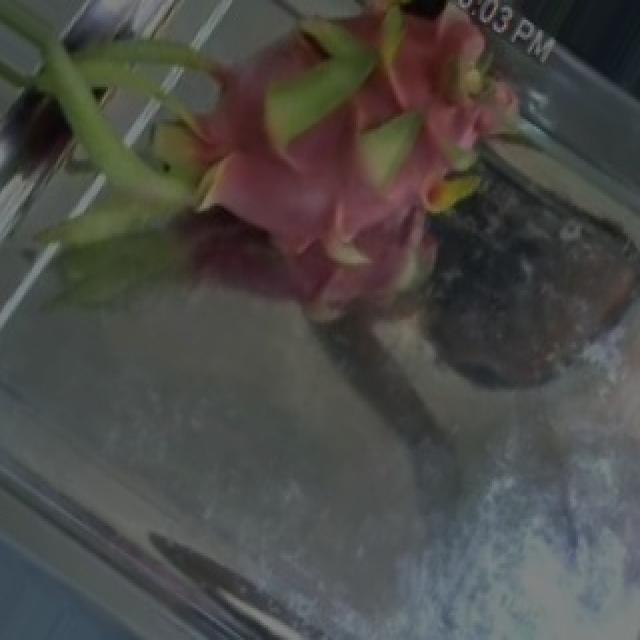fruit: (180, 0, 584, 389), (2, 0, 372, 384)
